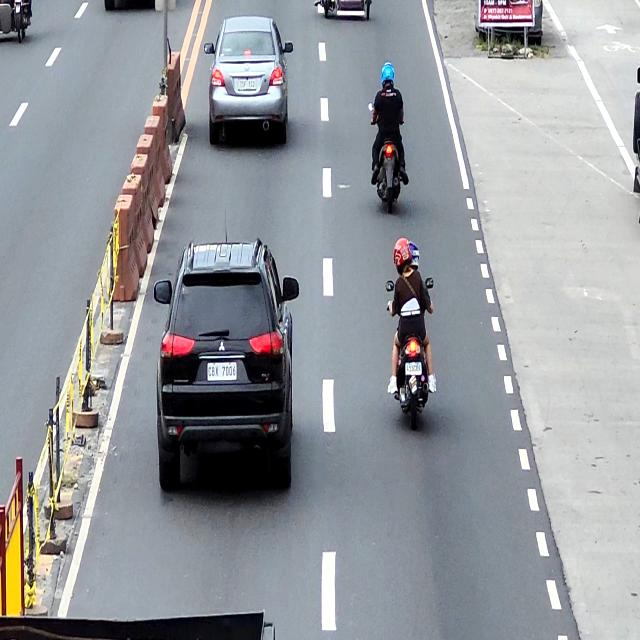Car: (154, 238, 298, 501), (205, 17, 294, 146)
License-Plate: (207, 362, 237, 380), (237, 78, 256, 91), (405, 361, 421, 376)
Motorcycle: (385, 276, 433, 428), (369, 98, 406, 214)
Tricycle: (318, 0, 372, 26), (0, 0, 33, 40)
